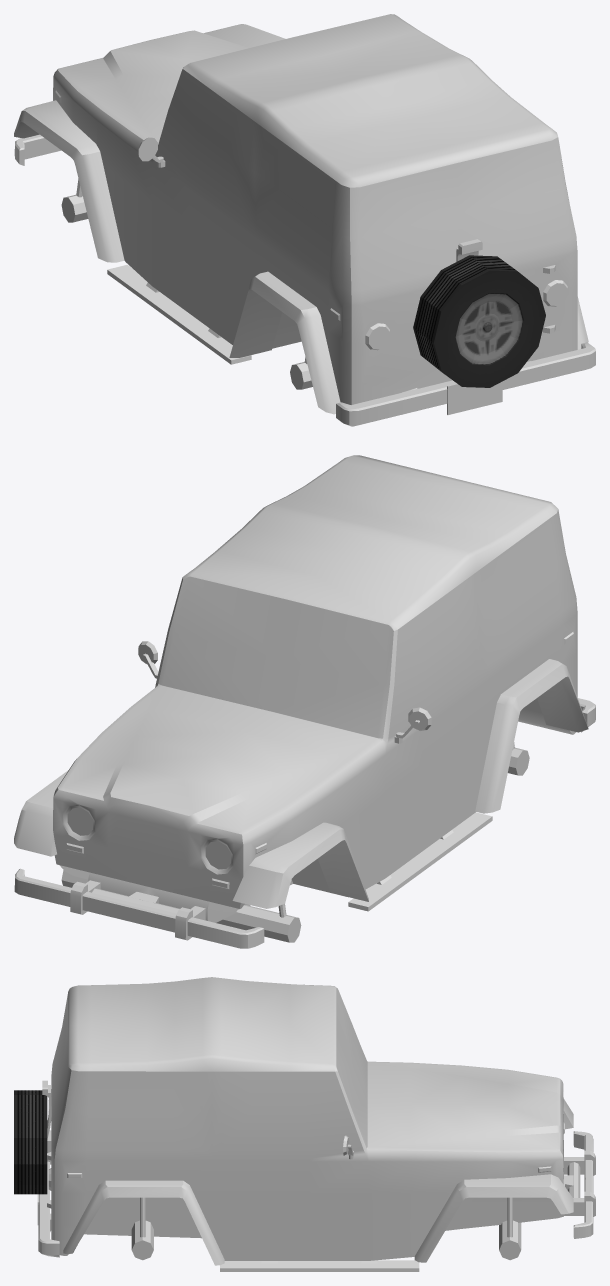
Rendered from DuneHopper.fbx.
3 renders of one model, top to bottom at view 1: azimuth 30°, elevation 25°; view 2: azimuth 150°, elevation 25°; view 3: azimuth 270°, elevation 25°, orthographic. The views are drawn at different scales.
Visible parts, largest first — view 1: Hopper, SpareWheel; view 2: Hopper; view 3: Hopper, SpareWheel.
Part boxes in pixels (bbox=[...]): Hopper: bbox=[14, 14, 595, 426]; SpareWheel: bbox=[413, 255, 545, 387]; Hopper: bbox=[14, 455, 595, 948]; Hopper: bbox=[37, 977, 595, 1271]; SpareWheel: bbox=[14, 1090, 47, 1194].
Size of the model in its own units: 2.45 by 2.05 by 5.25.
